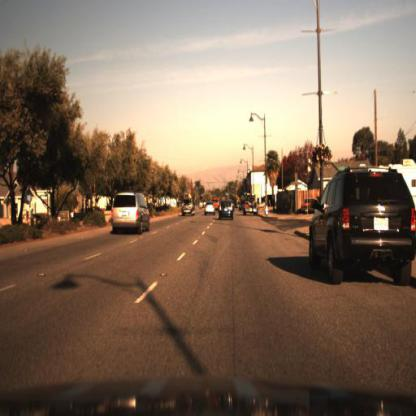car: (302, 152, 416, 294), (102, 180, 155, 243), (178, 191, 200, 225), (210, 196, 234, 225), (242, 192, 261, 220), (201, 198, 218, 223), (302, 197, 314, 219)
